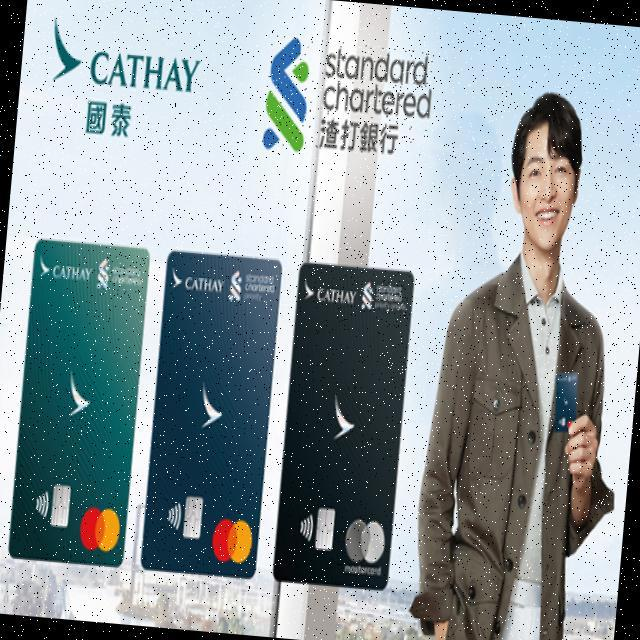Standard Chartered: (261, 34, 434, 158), (97, 255, 145, 299), (229, 267, 277, 306), (359, 280, 409, 315)
